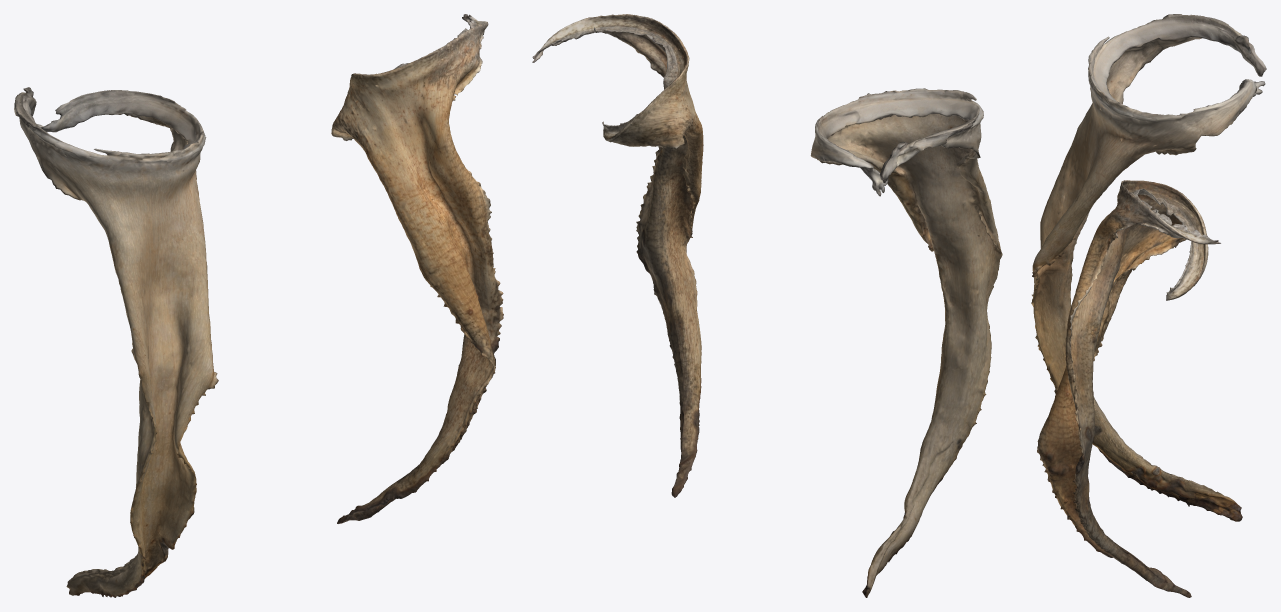
Rendered from dry_quiver_leaf_1k.gltf.
3 renders of one model, left to right at view 1: azimuth 30°, elevation 25°; view 2: azimuth 150°, elevation 25°; view 3: azimuth 270°, elevation 25°, orthographic. The views are drawn at different scales.
Visible parts, largest first — view 1: dry_quiver_leaf_a, dry_quiver_leaf_b; view 2: dry_quiver_leaf_a, dry_quiver_leaf_b; view 3: dry_quiver_leaf_a, dry_quiver_leaf_b.
Part boxes in pixels (x1=…): dry_quiver_leaf_a: x1=14, y1=87, x2=218, y2=597; dry_quiver_leaf_b: x1=331, y1=14, x2=503, y2=523; dry_quiver_leaf_a: x1=810, y1=88, x2=1002, y2=597; dry_quiver_leaf_b: x1=532, y1=14, x2=703, y2=497; dry_quiver_leaf_a: x1=1031, y1=14, x2=1266, y2=521; dry_quiver_leaf_b: x1=1037, y1=180, x2=1220, y2=597.
Bounding box in the file's own units: 0.3967 × 0.425 × 0.1918.
Materials: 1 (1 with a texture image).
